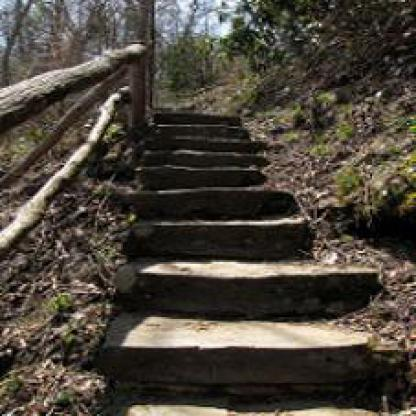stair_up: (124, 117, 376, 359)
